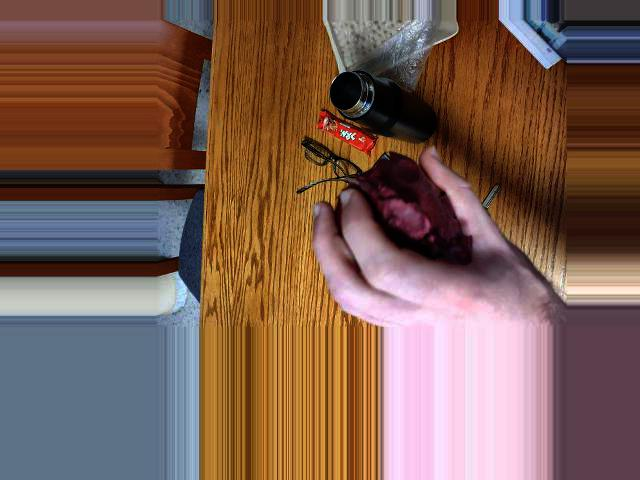onion: (345, 164, 473, 267)
